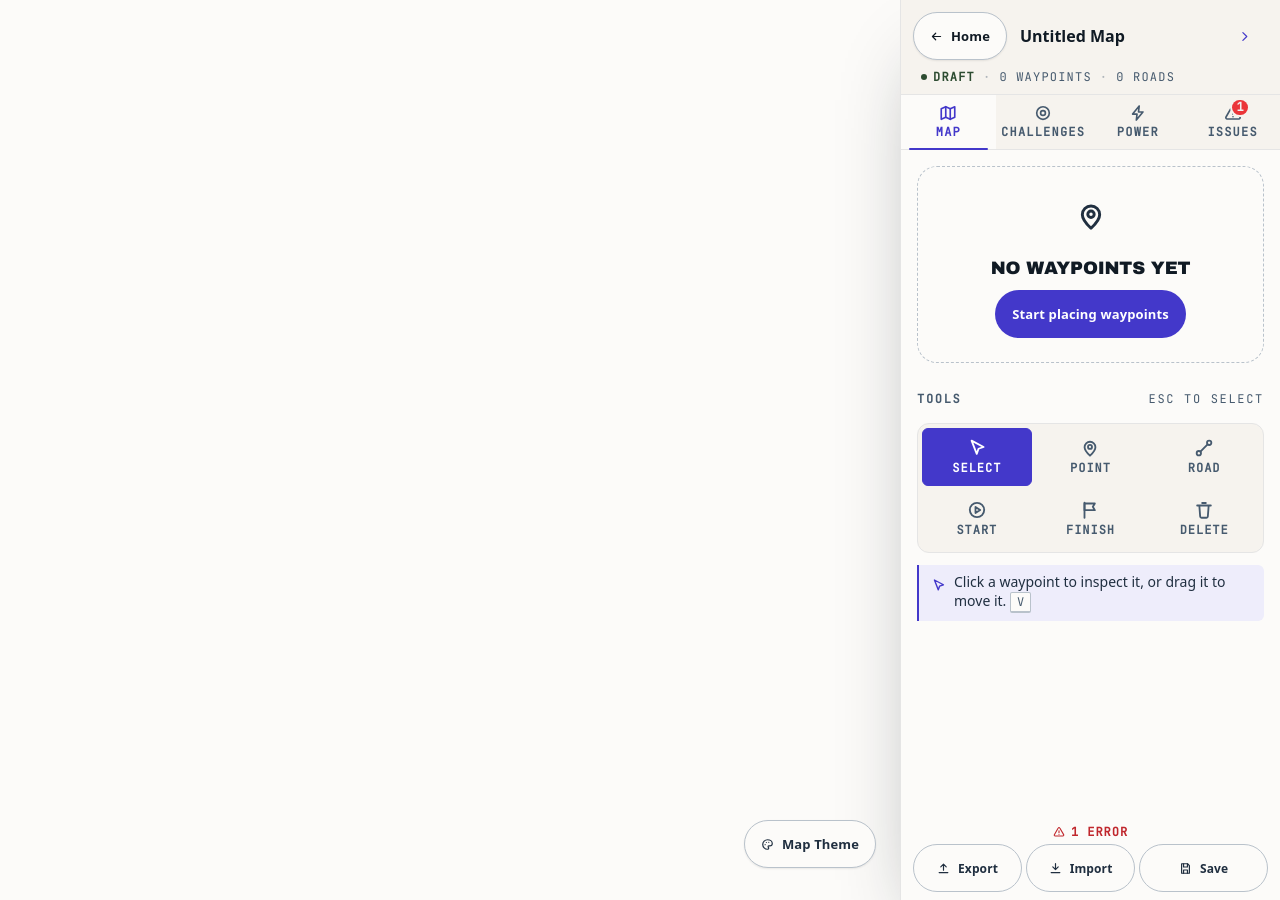
Test: DesignView clearing the map › empties the draft once the clear is confirmed
This screenshot has width=1280, height=900.
Click the button "Start placing waypoints": (1091, 314) [995,290,1186,338]
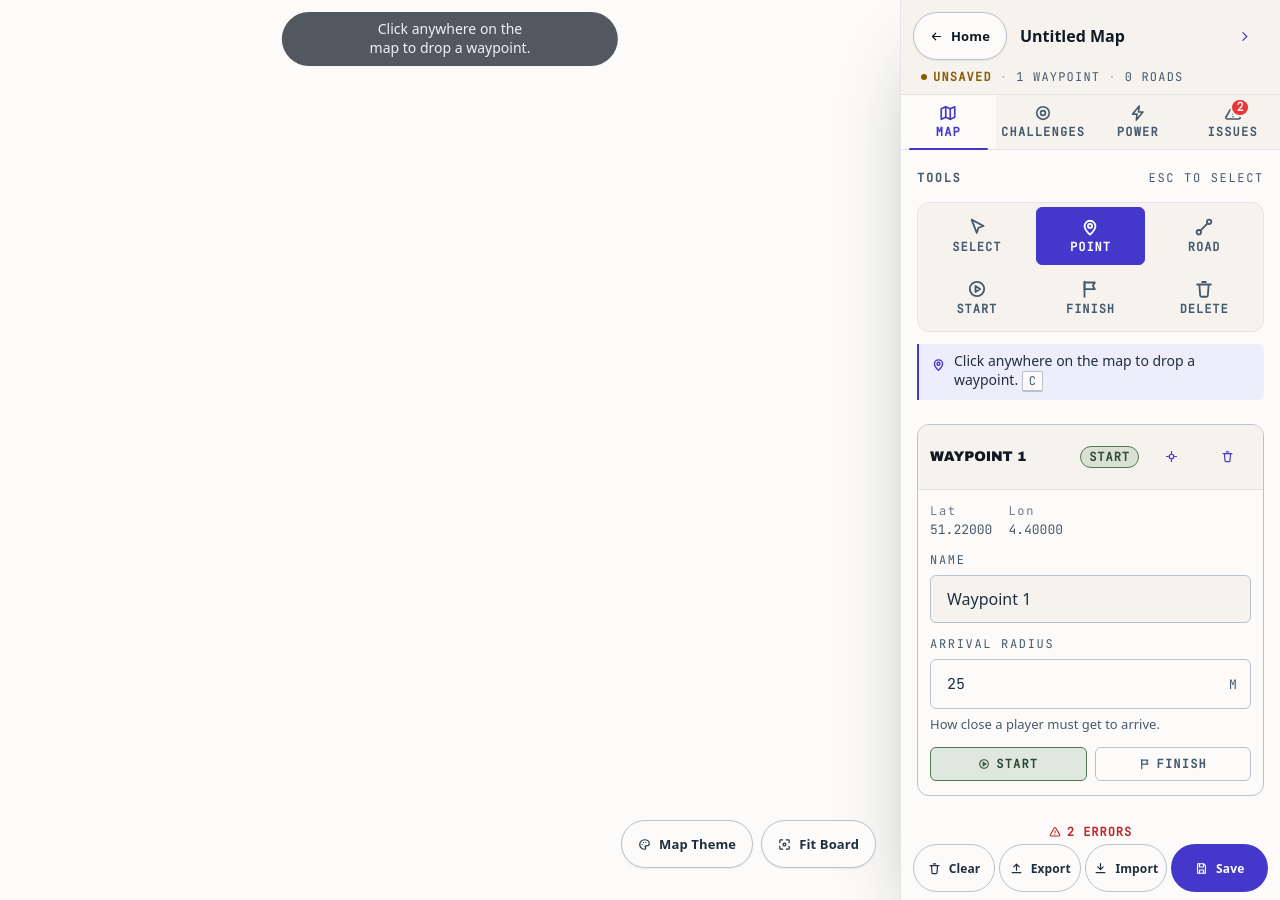
Expected: the heading "Waypoint 1" is shown, [930,449,1026,464]
# Clear only offers itself once there is a design to throw away.
Click the button "Clear": (954, 868) [913,844,995,892]
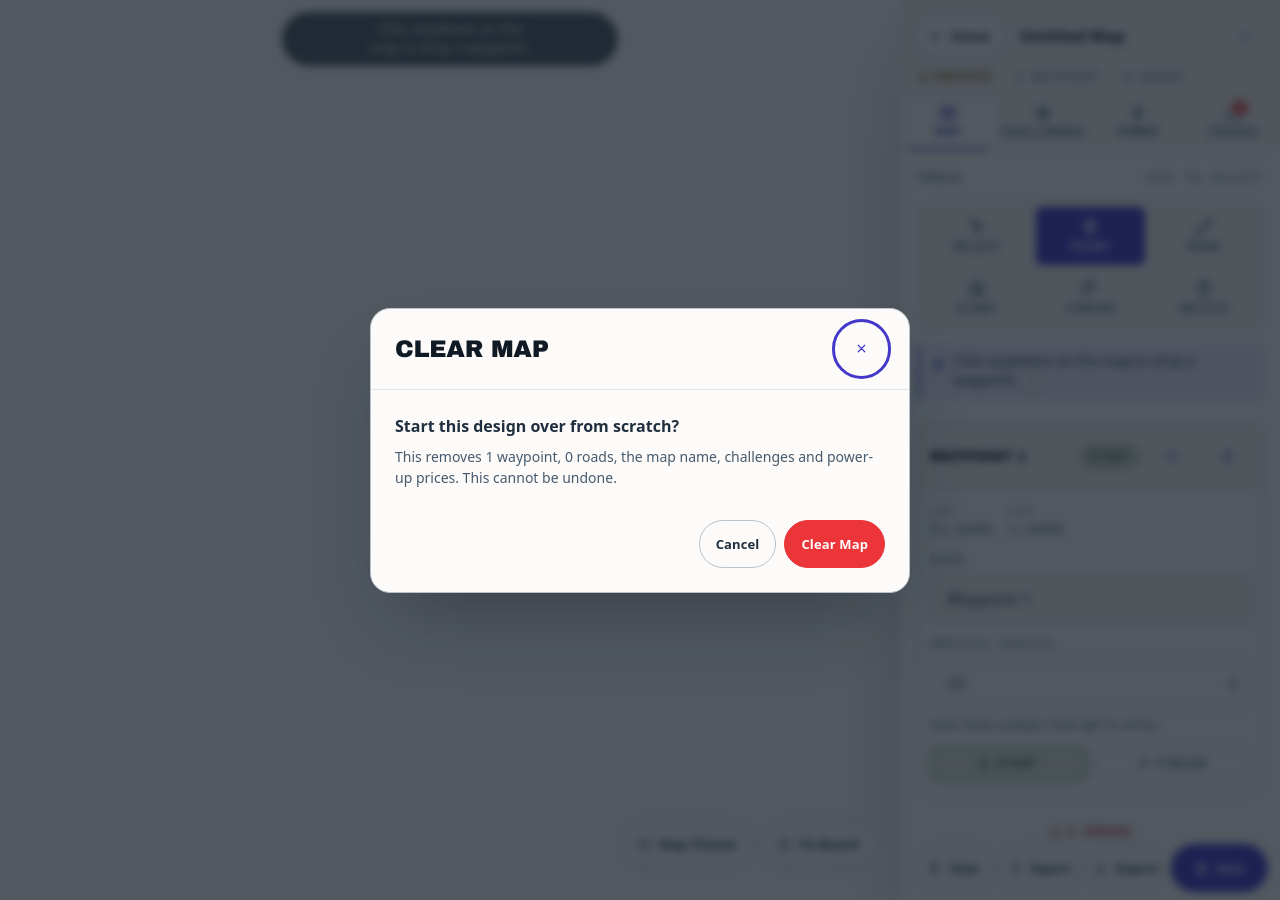
Expected: the text "Start this design over from scratch?" is shown, [395,414,679,436]
Click the button "Clear Map": (835, 544) [784,520,885,568]
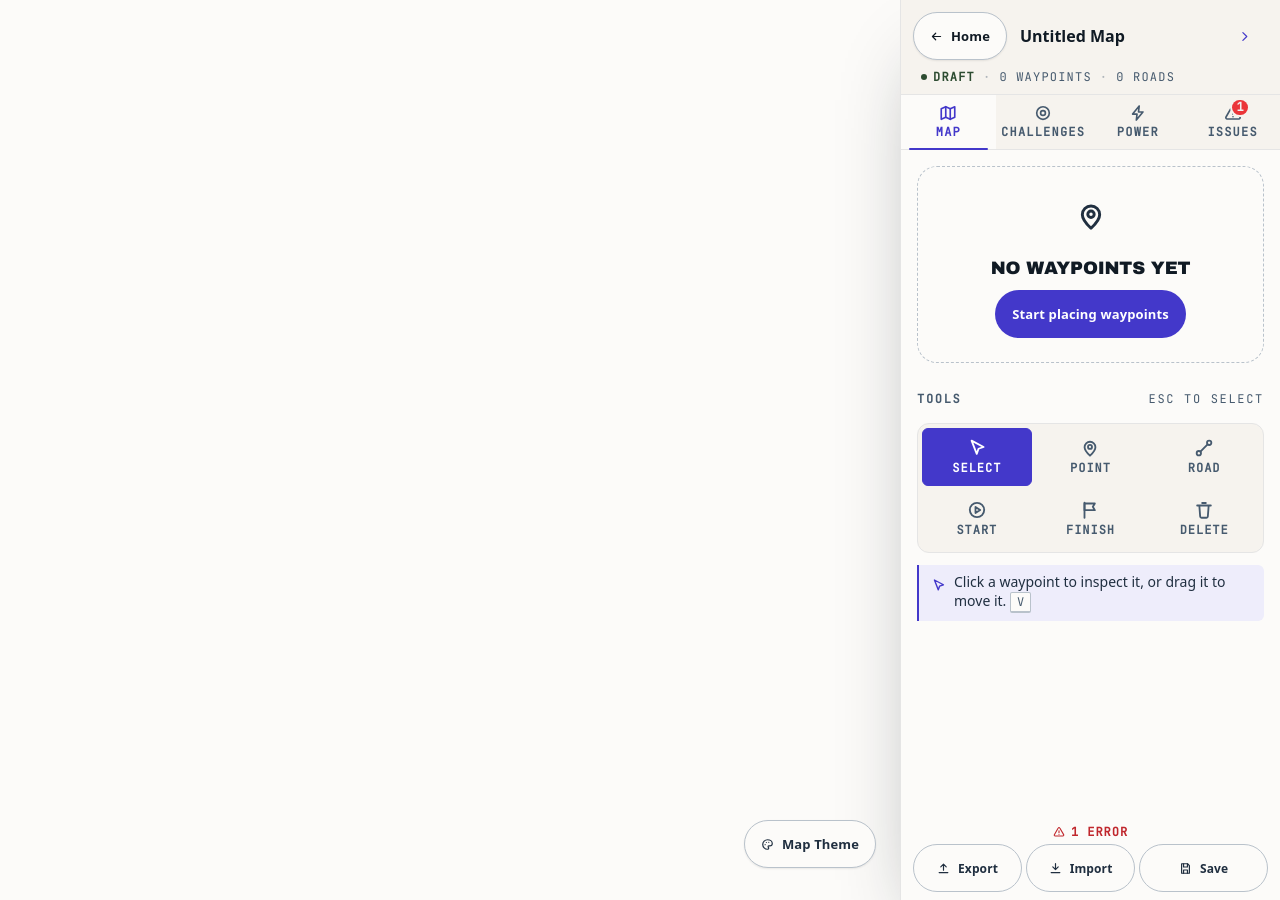
Expected: the heading "Waypoint 1" is gone
Expected: the button "Start placing waypoints" is shown, [995,290,1186,338]
Expected: the button "Clear" is gone
